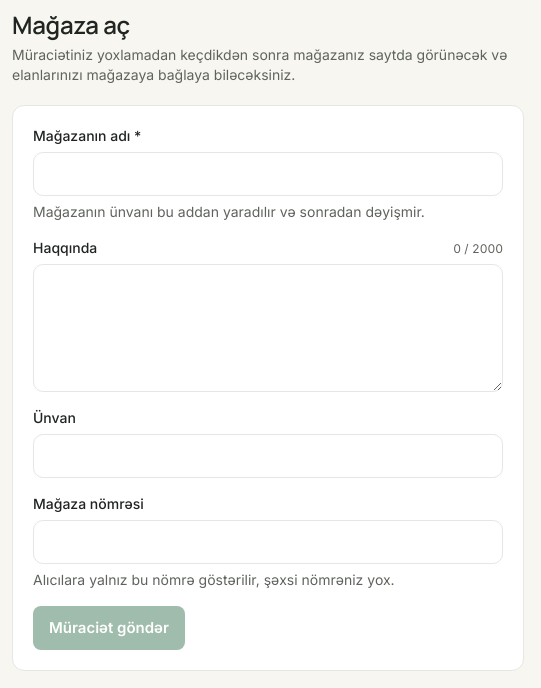
Test case: MyStorePage › lands a server field error on the field it belongs to
Type "Yeni Mağaza" into the field labelled "Mağazanın adı *". click: (268, 174)
box: 33,152 -> 503,196
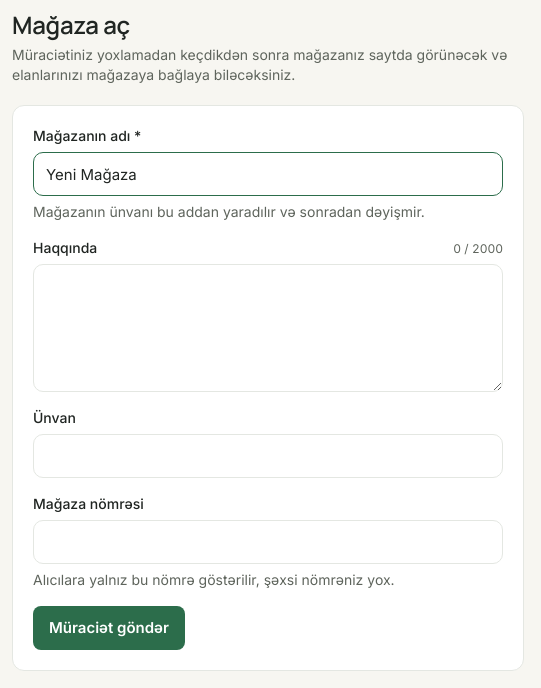
Click the button "Müraciət göndər". click: (109, 628)
box: 33,606 -> 185,650
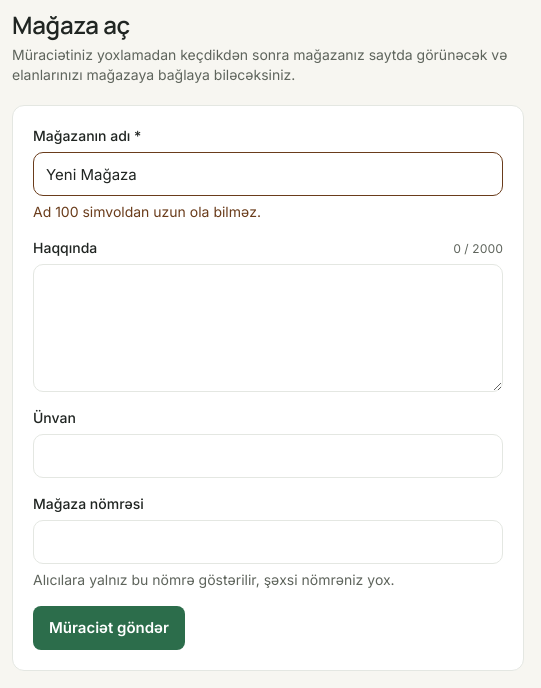
Check: the text "Ad 100 simvoldan uzun ola bilməz." is shown, box 33,203 -> 261,220
